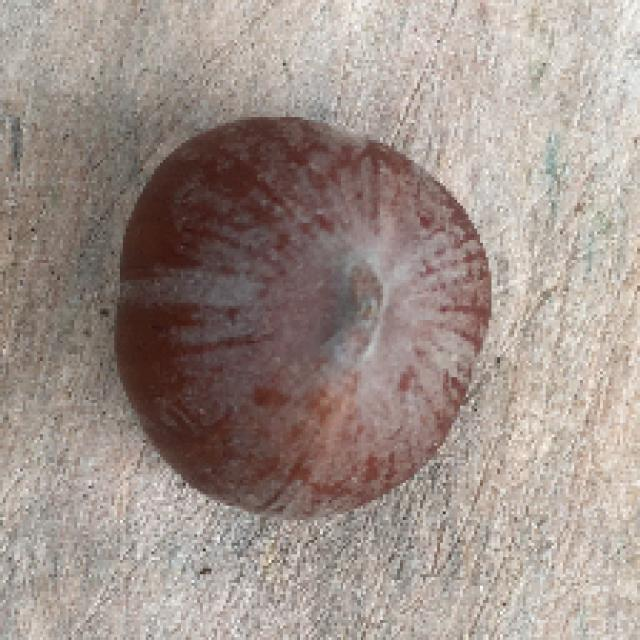qualityHazelnut: (112, 111, 494, 525)
